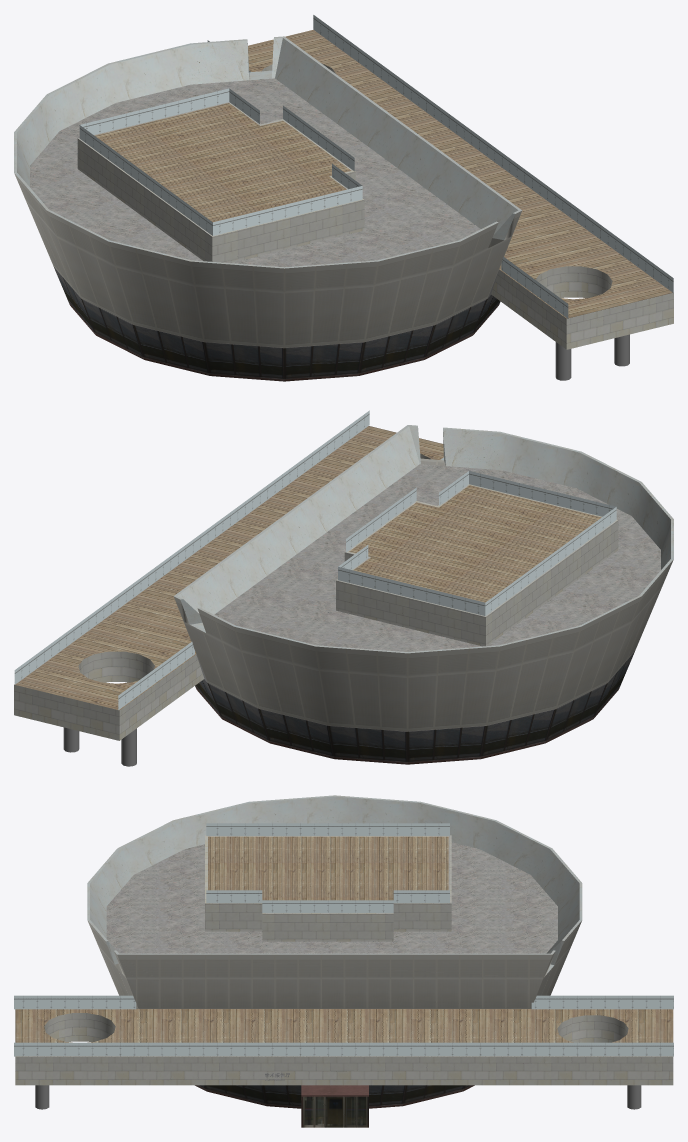
File: XueShuBaoGaoTing.FBX
3 renders of one model, top to bottom at view 1: azimuth 30°, elevation 25°; view 2: azimuth 150°, elevation 25°; view 3: azimuth 270°, elevation 25°, orthographic. The views are drawn at different scales.
Visible parts, largest first — view 1: XueShuBaoGaoTing; view 2: XueShuBaoGaoTing; view 3: XueShuBaoGaoTing, obj_020.
Part boxes in pixels (box(x1,y1,x2,y2)): XueShuBaoGaoTing: box(14, 15, 673, 381); XueShuBaoGaoTing: box(14, 410, 673, 766); XueShuBaoGaoTing: box(14, 795, 673, 1109); obj_020: box(301, 1085, 368, 1127).
Bounding box in the file's own units: 3619 × 1118 × 4767.
